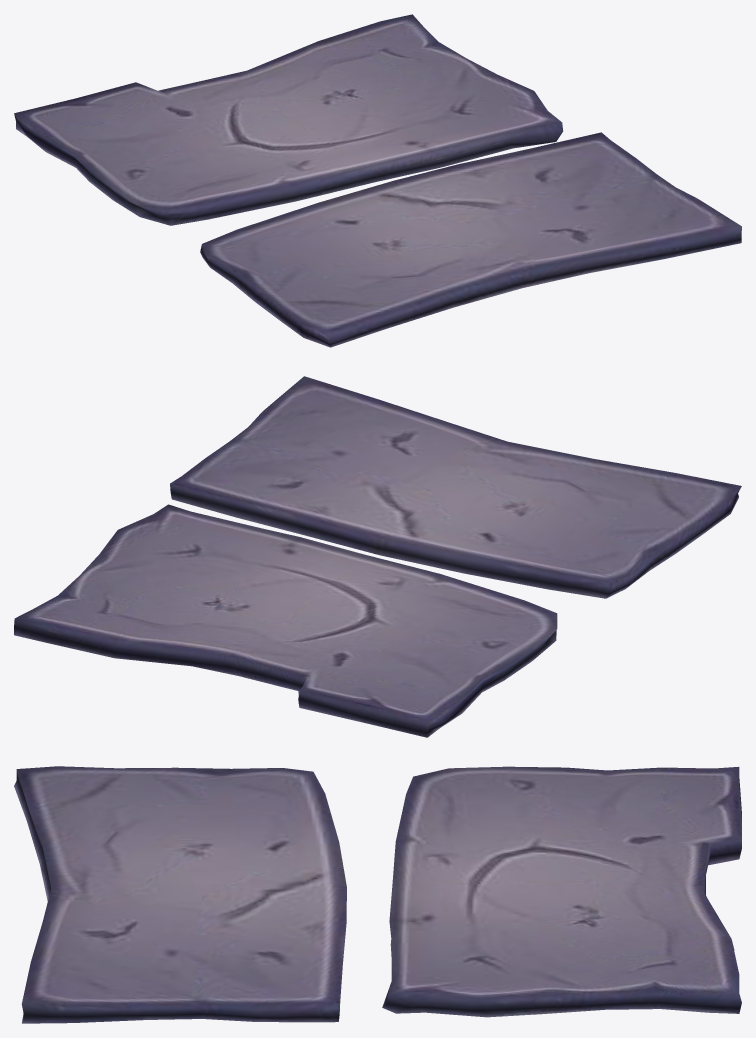
Rendered from cp_rachadura_estrela.glb.
3 views of the same model, one above another, from view 1: azimuth 30°, elevation 25°; view 2: azimuth 150°, elevation 25°; view 3: azimuth 270°, elevation 25° (orthographic). The views are drawn at different scales.
Parts seen in each view (by area): view 1: Mesh_0.006; view 2: Mesh_0.006; view 3: Mesh_0.006.
Boxes of the visible parts, x1,y1,x2,y2 form: Mesh_0.006: [14, 14, 741, 347]; Mesh_0.006: [14, 376, 741, 737]; Mesh_0.006: [14, 766, 741, 1023].
Size of the model in its own units: 0.2201 by 0.0115 by 0.2754.
Materials: 1 (1 with a texture image).
